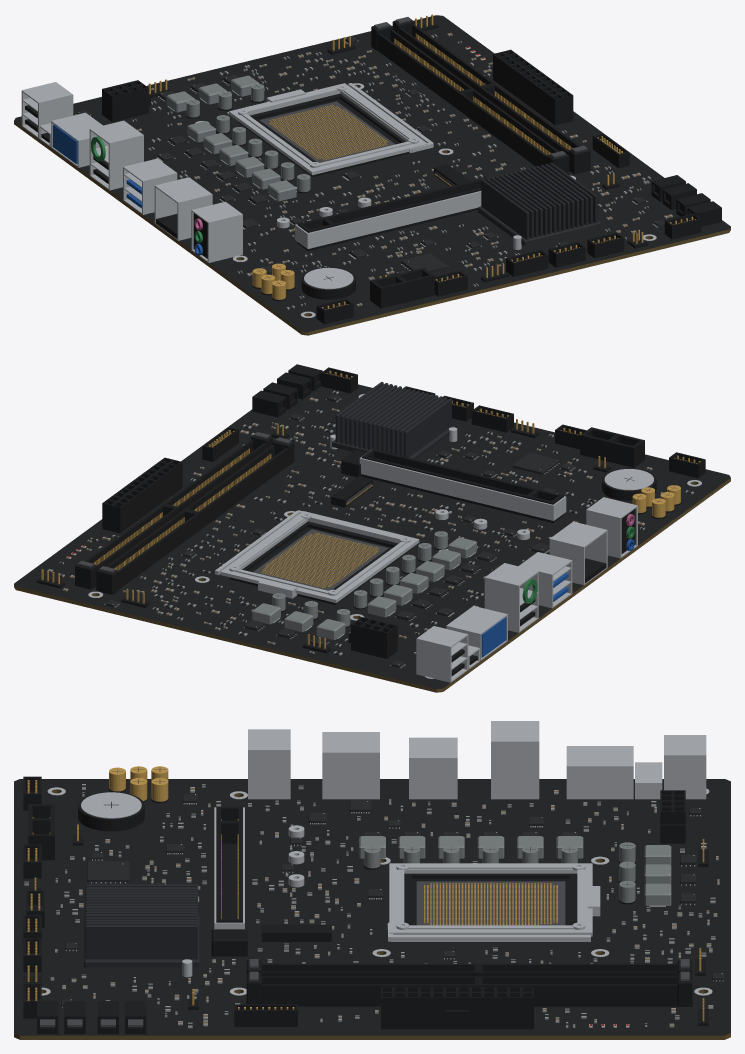
Rendered from L129_CompleteMotherboard.fbx.
3 renders of one model, top to bottom at view 1: azimuth 30°, elevation 25°; view 2: azimuth 150°, elevation 25°; view 3: azimuth 270°, elevation 25°, orthographic. The views are drawn at different scales.
Visible parts, largest first — view 1: PCB__PCB, PCH_HEATSINK__Heatsink, DDR5_1__Plastic, CPU_RETENTION__Steel, CPU_SOCKET__Pad, CPU_SOCKET__Gold, DDR5_2__Plastic, ATX_24__Plastic, PCB__FR4, PCIE_X16__Steel, PCIE_X16__Plastic, REAR_PS2_USB2__Steel (+24 smaller); view 2: PCB__PCB, PCH_HEATSINK__Heatsink, DDR5_1__Plastic, CPU_RETENTION__Steel, CPU_SOCKET__Pad, CPU_SOCKET__Gold, PCIE_X16__Steel, DDR5_2__Plastic, ATX_24__Plastic, PCB__FR4, PCIE_X16__Plastic, REAR_PS2_USB2__Steel (+22 smaller); view 3: PCB__PCB, DDR5_2__Plastic, PCH_HEATSINK__Heatsink, ATX_24__Plastic, CPU_RETENTION__Steel, DDR5_1__Plastic, CPU_SOCKET__Pad, REAR_LAN__Steel, CPU_SOCKET__Gold, PCB__FR4, REAR_PS2_USB2__Steel, REAR_VGA__Steel (+28 smaller).
Boxes of the visible parts, x1,y1,x2,y2 form: PCB__PCB: (14,15,730,331); PCH_HEATSINK__Heatsink: (478,162,601,245); DDR5_1__Plastic: (377,30,558,166); CPU_RETENTION__Steel: (229,83,427,175); CPU_SOCKET__Pad: (259,101,395,162); CPU_SOCKET__Gold: (268,104,388,160); DDR5_2__Plastic: (399,24,580,154); ATX_24__Plastic: (493,49,573,125); PCB__FR4: (14,85,730,335); PCIE_X16__Steel: (295,177,489,248); PCIE_X16__Plastic: (297,177,490,251); REAR_PS2_USB2__Steel: (89,120,143,190); PCB__PCB: (14,384,730,688); PCH_HEATSINK__Heatsink: (332,382,455,459); DDR5_1__Plastic: (106,445,287,589); CPU_RETENTION__Steel: (220,511,419,602); CPU_SOCKET__Pad: (253,529,388,590); CPU_SOCKET__Gold: (261,532,379,588); PCIE_X16__Steel: (359,449,566,520); DDR5_2__Plastic: (85,439,266,570); ATX_24__Plastic: (102,457,182,533); PCB__FR4: (14,478,730,692); PCIE_X16__Plastic: (362,449,563,522); REAR_PS2_USB2__Steel: (484,563,538,632); PCB__PCB: (14,779,730,1035); DDR5_2__Plastic: (261,976,677,1006); PCH_HEATSINK__Heatsink: (84,884,199,967); ATX_24__Plastic: (381,987,533,1029); CPU_RETENTION__Steel: (389,863,600,936); DDR5_1__Plastic: (261,963,677,976); CPU_SOCKET__Pad: (416,881,565,925); REAR_LAN__Steel: (322,732,379,799); CPU_SOCKET__Gold: (424,883,557,925); PCB__FR4: (14,789,730,1039); REAR_PS2_USB2__Steel: (491,721,539,799); REAR_VGA__Steel: (566,746,633,799).
Size of the model in its own units: 201 by 22.6 by 236.
